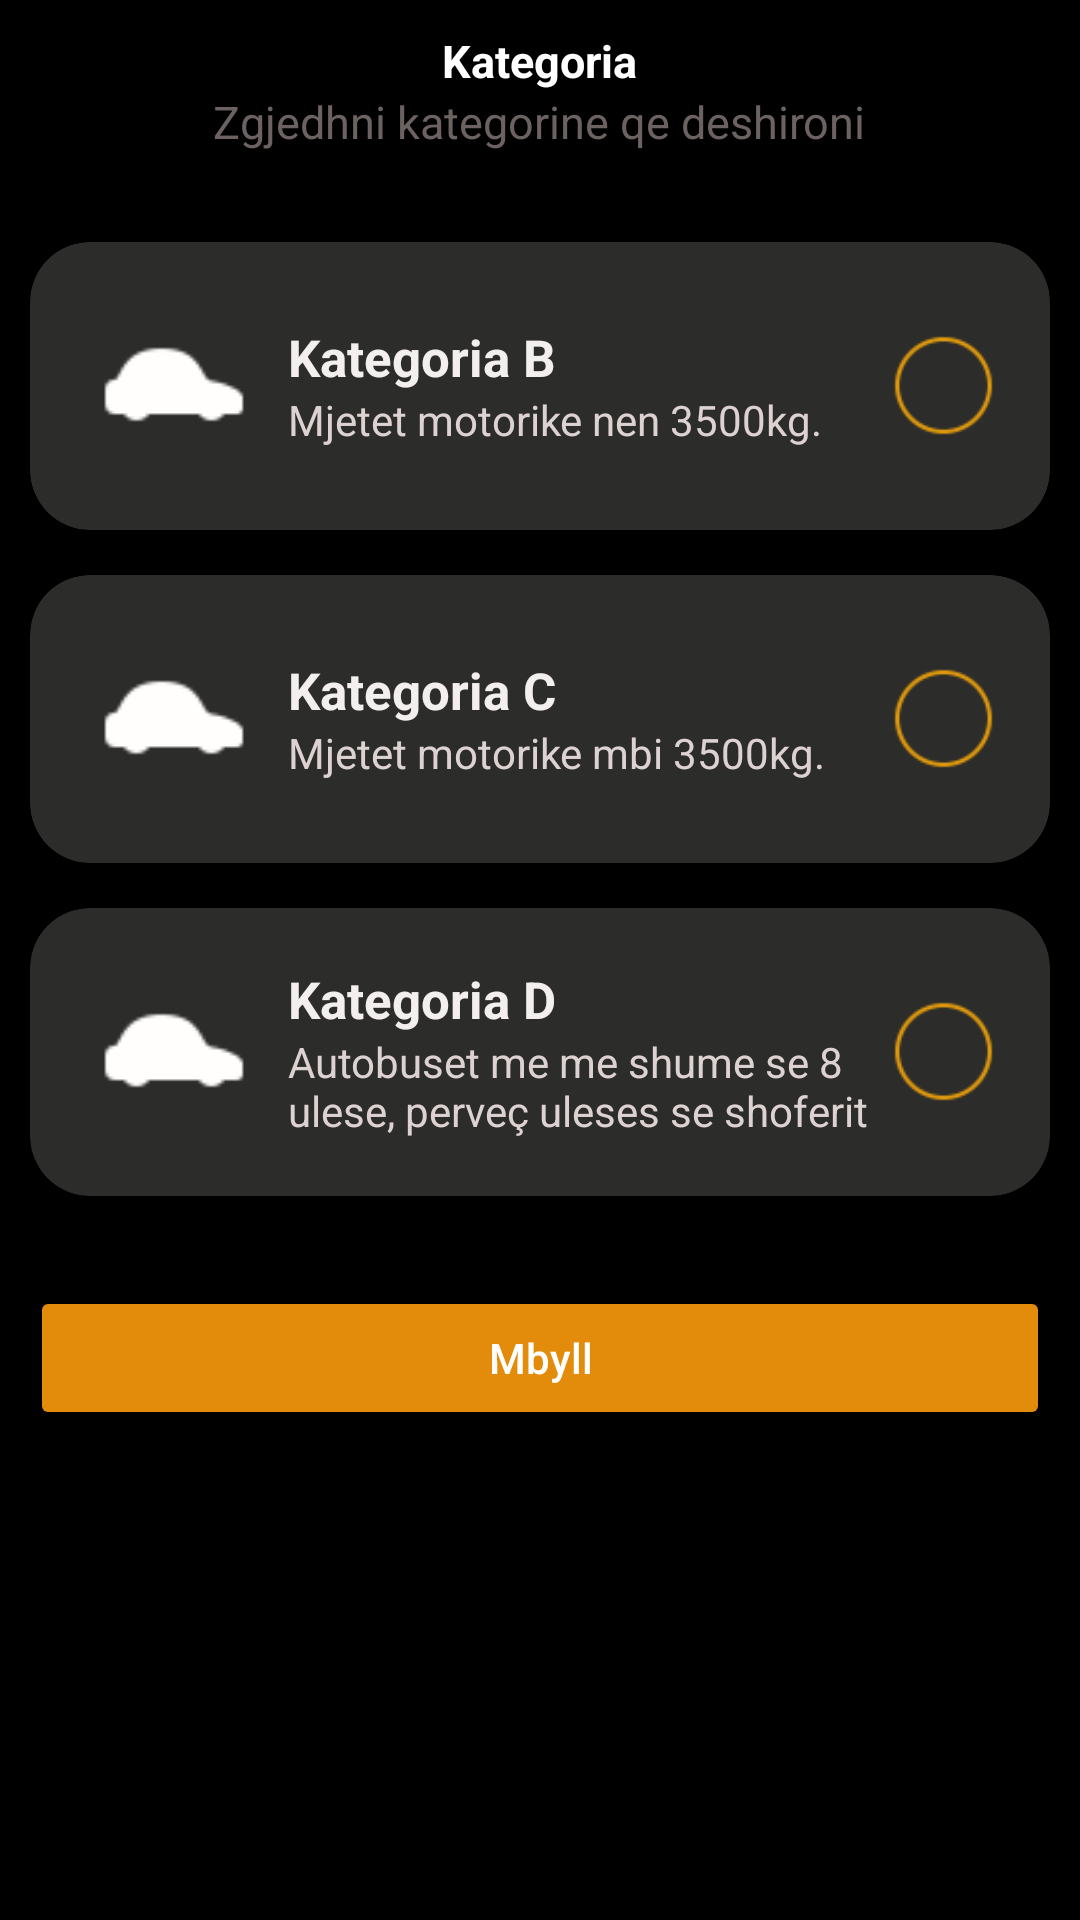

Icons on this 1080w x 1920h Android screen, each with the point to tap as point (x, y):
car: point (174, 384), point (174, 717), point (174, 1050)
unchecked: point (943, 385), point (943, 718), point (943, 1051)
